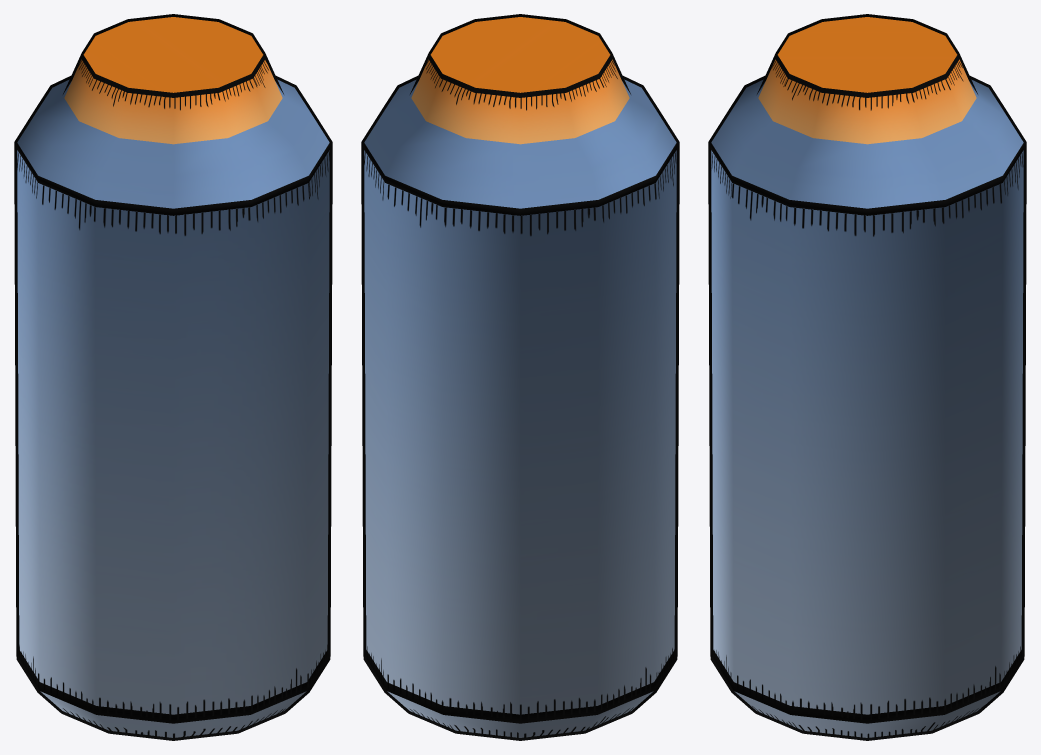
File: SciFi_Battery_Capsule01.glb
3 renders of one model, left to right at view 1: azimuth 30°, elevation 25°; view 2: azimuth 150°, elevation 25°; view 3: azimuth 270°, elevation 25°, orthographic.
Visible parts, largest first — view 1: SciFi_Battery_Capsule01; view 2: SciFi_Battery_Capsule01; view 3: SciFi_Battery_Capsule01.
Boxes of the visible parts, x1,y1,x2,y2 form: SciFi_Battery_Capsule01: (14, 14, 332, 740); SciFi_Battery_Capsule01: (361, 14, 679, 740); SciFi_Battery_Capsule01: (708, 14, 1026, 740).
Bounding box in the file's own units: 0.4333 × 0.9524 × 0.4333.
Materials: 3 (2 with a texture image).
